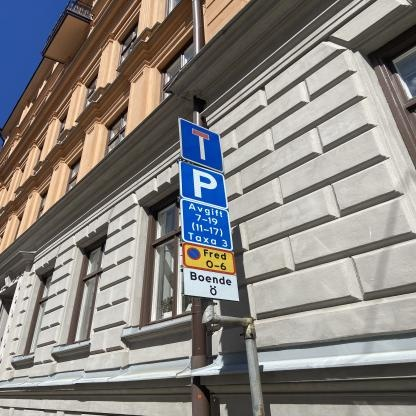P-skylt: (177, 160, 228, 209)
